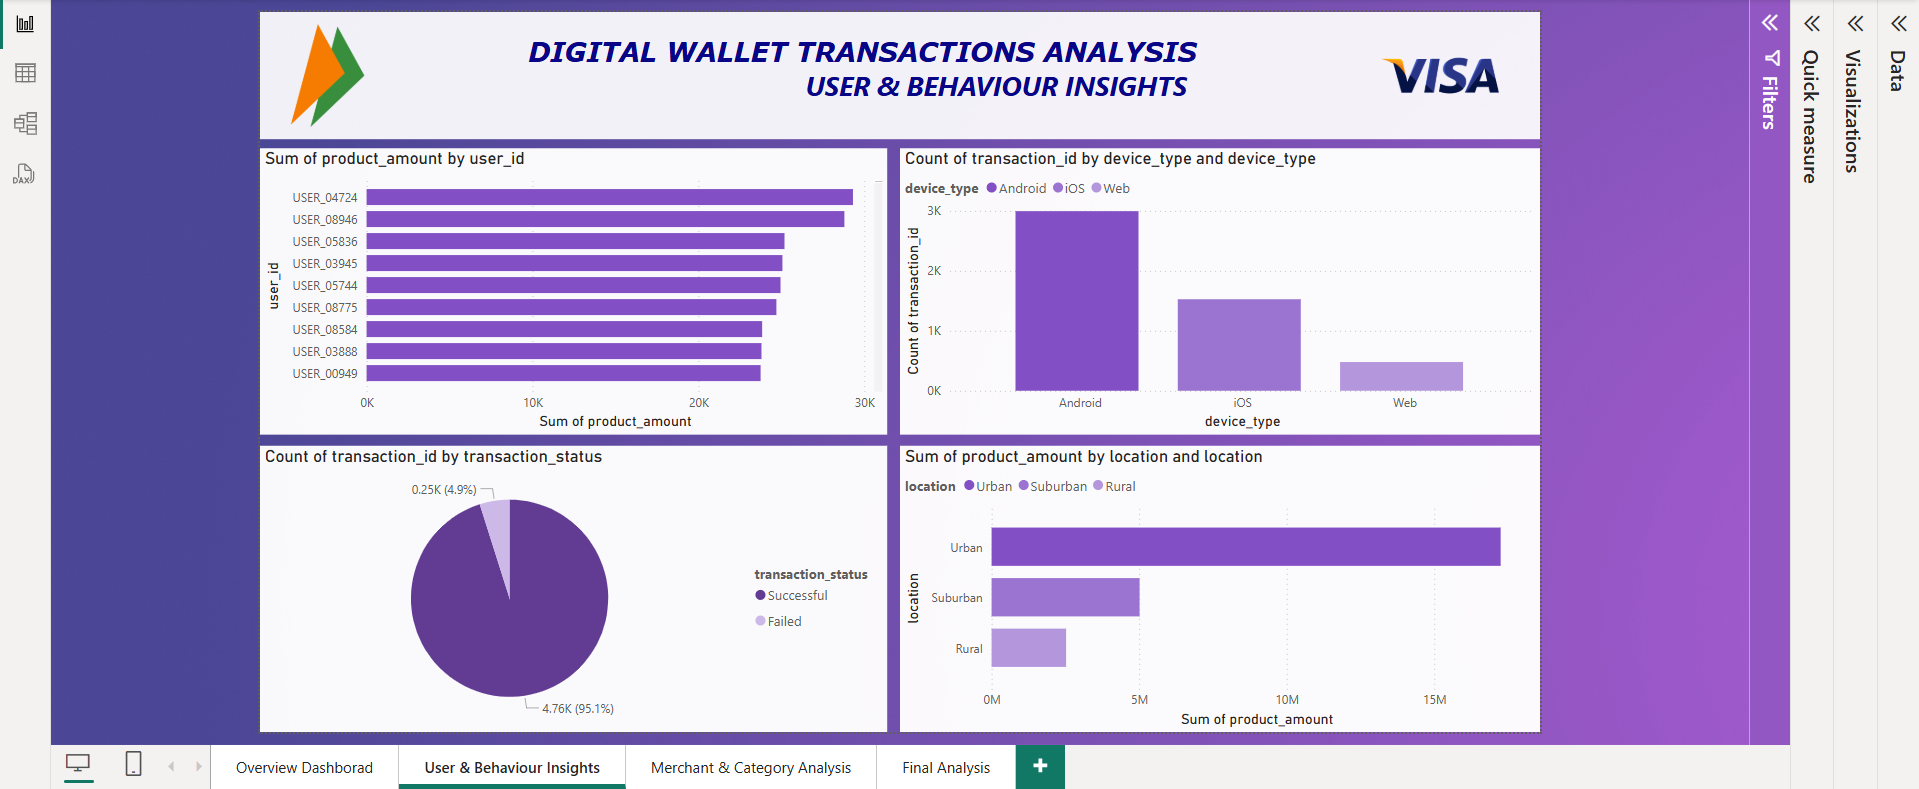

The page's visual inventory and layout, read from the dashboard file:
{"tool":"powerbi","page":{"name":"User & Behaviour Insights","canvas":[1280,720],"ordinal":1},"visuals":[{"type":"clusteredBarChart","fields":{"Category":["Transactions.user_id"],"Y":["Sum(Transactions.product_amount)"]},"box":[0,136.2,627.5,286.2],"z":0},{"type":"pieChart","fields":{"Category":["Transactions.transaction_status"],"Y":["CountNonNull(Transactions.transaction_id)"]},"box":[0,433.8,627.5,286.2],"z":1000},{"type":"columnChart","fields":{"Category":["Transactions.device_type"],"Y":["CountNonNull(Transactions.transaction_id)"],"Series":["Transactions.device_type"]},"box":[640,136.2,640,286.2],"z":2000},{"type":"barChart","fields":{"Category":["Transactions.location"],"Y":["Sum(Transactions.product_amount)"],"Series":["Transactions.location"]},"box":[640,433.8,640,286.2],"z":3000},{"type":"textbox","box":[0,0,1280,127.5],"z":4000},{"type":"image","box":[0,0,130,127.5],"z":5000},{"type":"image","box":[1090,0,180,127.5],"z":6000}]}

Visuals, with their boxes on the page's 1280x720 design canvas (x1, y1, x2, y2). These are canvas units, not pixel positions in the 1919x789 screenshot, which may show the page scaled, cropped or inside an application window:
clusteredBarChart - Transactions.user_id x Sum(Transactions.product_amount): (left=0, top=136, right=628, bottom=422)
pieChart - Transactions.transaction_status x CountNonNull(Transactions.transaction_id): (left=0, top=434, right=628, bottom=720)
columnChart - Transactions.device_type x CountNonNull(Transactions.transaction_id): (left=640, top=136, right=1280, bottom=422)
barChart - Transactions.location x Sum(Transactions.product_amount): (left=640, top=434, right=1280, bottom=720)
textbox: (left=0, top=0, right=1280, bottom=128)
image: (left=0, top=0, right=130, bottom=128)
image: (left=1090, top=0, right=1270, bottom=128)
